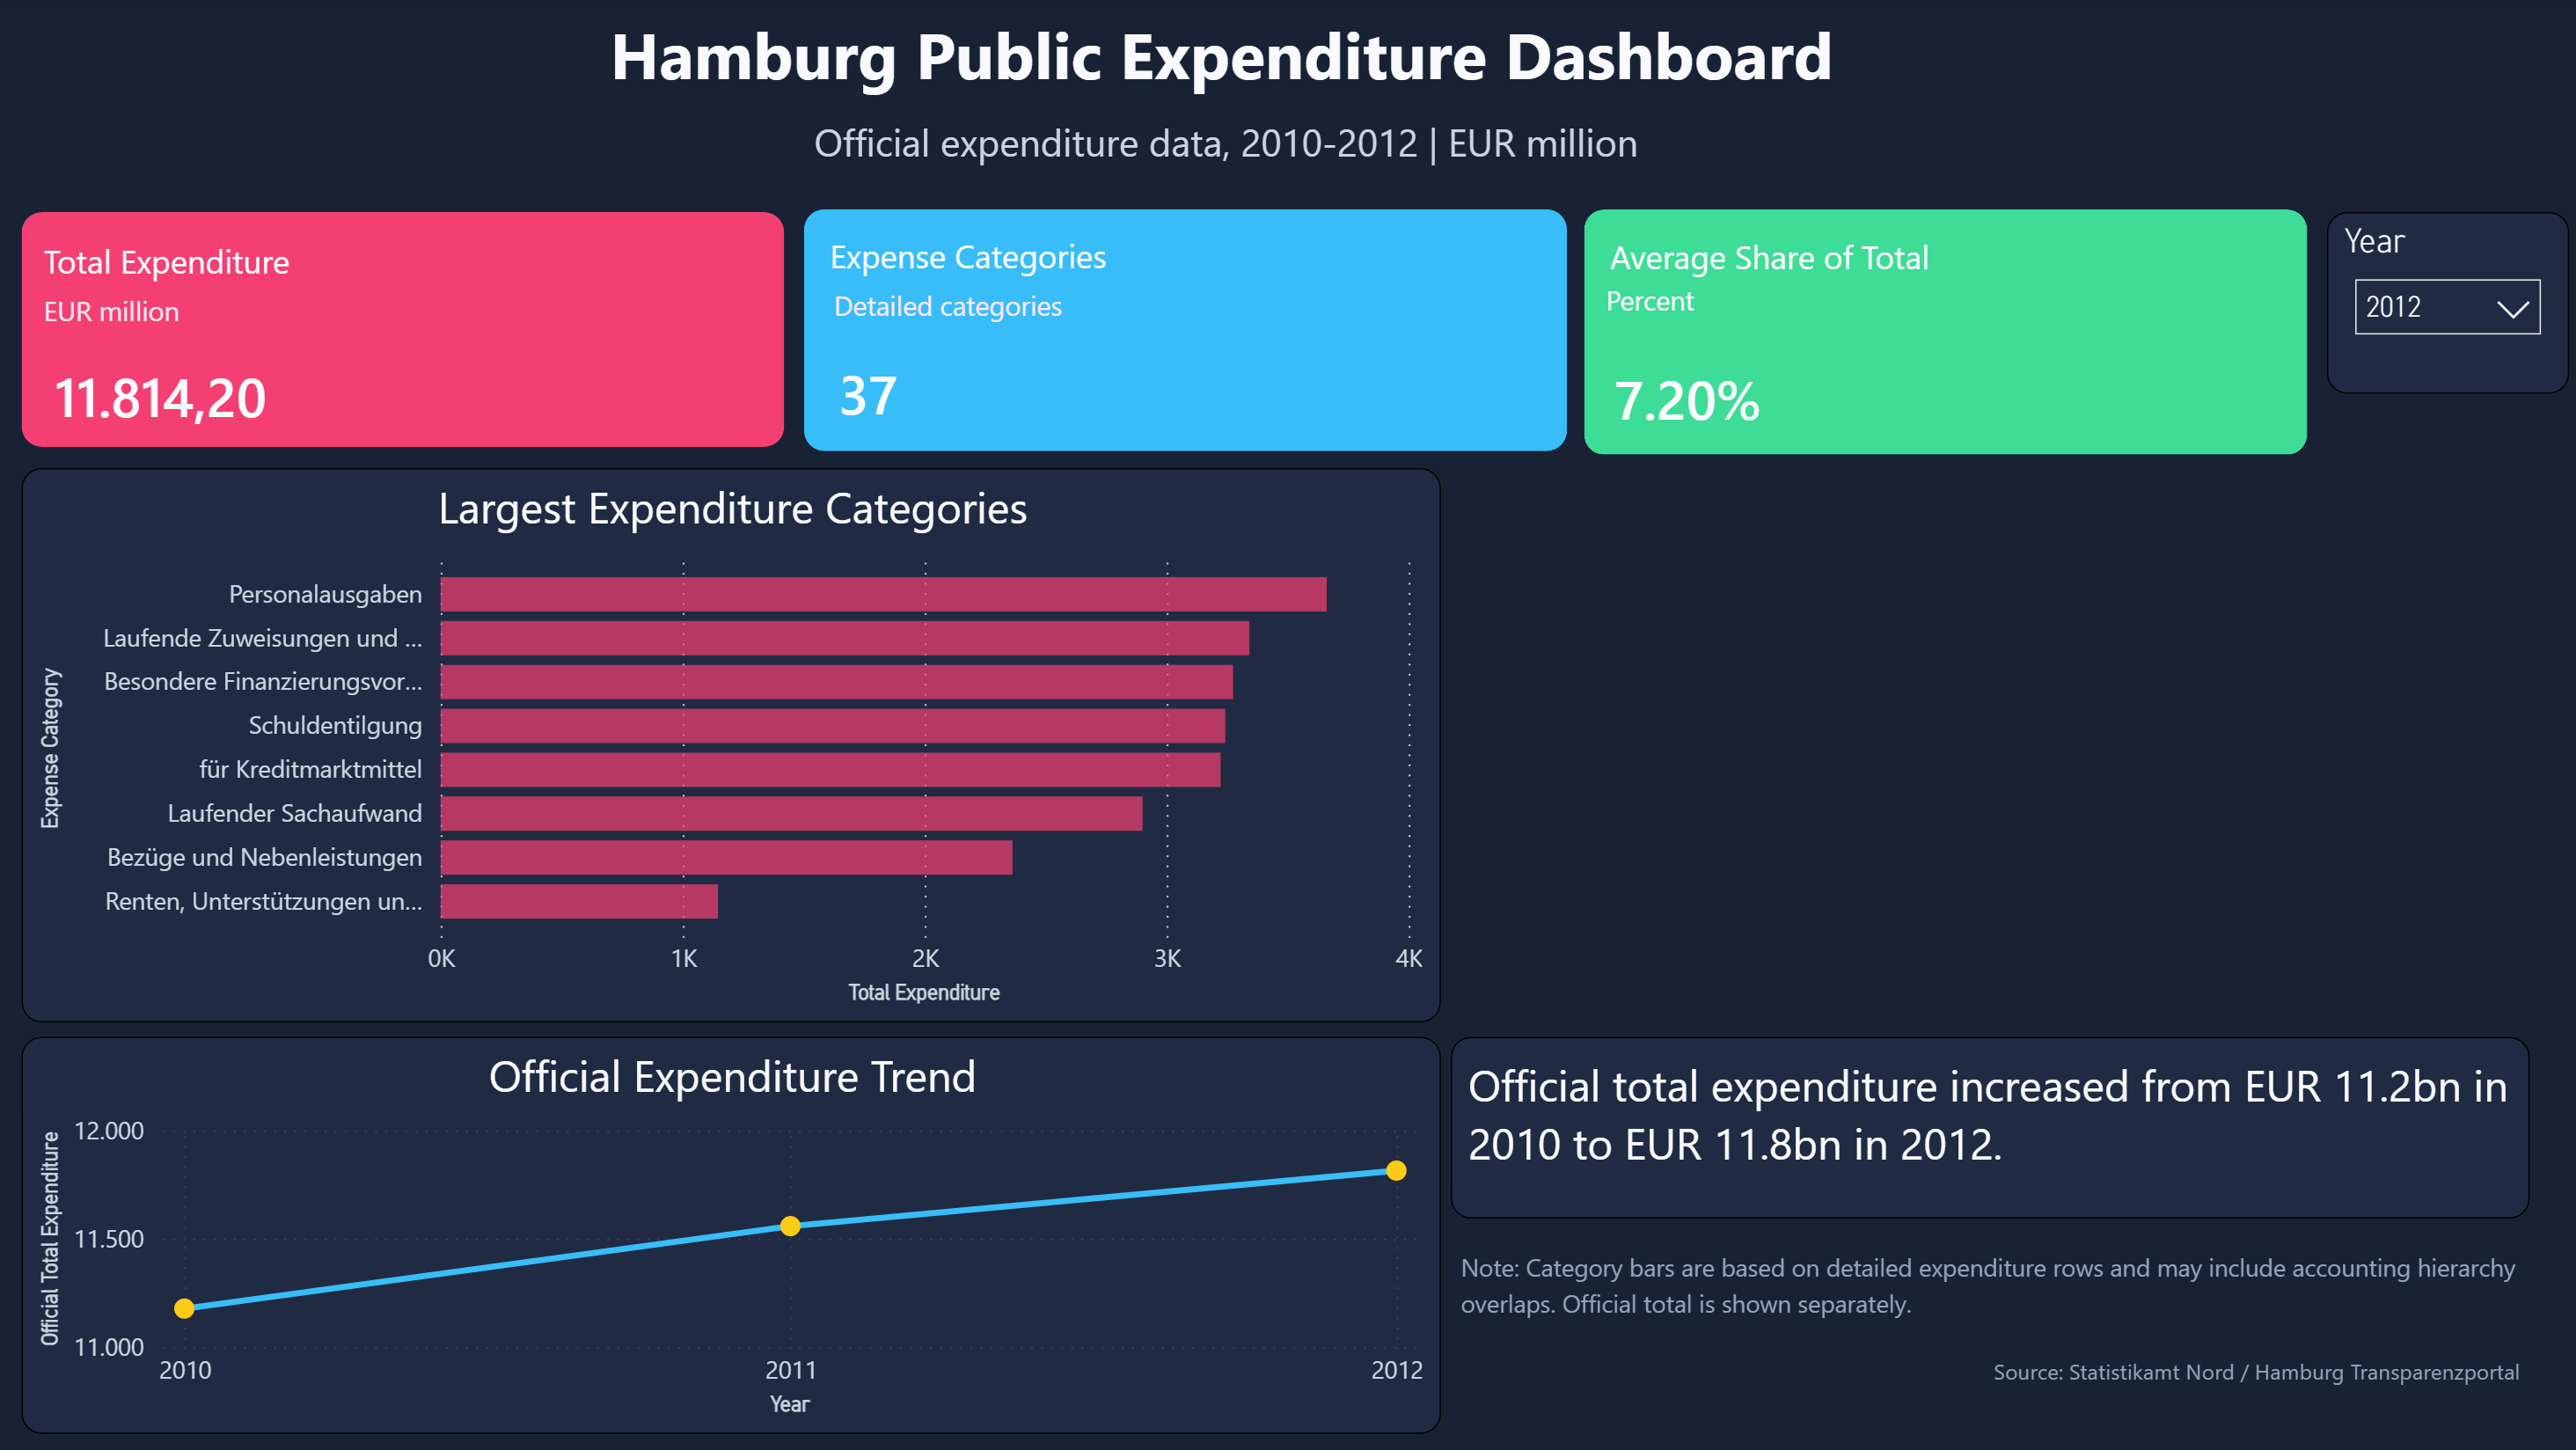

Layout of this report page (visuals, bound fields, positions):
{"tool":"powerbi","page":{"name":"Executive Overview","canvas":[1280,720],"ordinal":0},"visuals":[{"type":"shape","box":[12.4,105.9,378,116.4],"z":0,"group":"g2"},{"type":"slicer","title":"Year","fields":{"Values":["Dim_Year.Year"]},"box":[1154.9,105.9,119.7,90.2],"z":0},{"type":"shape","box":[400.2,104.6,378,119.7],"z":500,"group":"g1"},{"type":"clusteredBarChart","title":"Largest Expenditure Categories","fields":{"Category":["fact_expenses_detail.Expense Category"],"Y":["Measures (2).Total Actual EUR million"]},"box":[12.4,232.8,703.7,274.7],"z":1000},{"type":"lineChart","title":"Official Expenditure Trend","fields":{"Category":["Dim_Year.Year"],"Y":["Measures (2).Official Total Expenditure"]},"box":[12.4,514.7,703.7,196.8],"z":2000},{"type":"cardVisual","title":"Expense Categories","fields":{"Data":["Measures (2).Number of Expenses Categories"]},"box":[388.5,155.8,108.6,77.8],"z":3000,"group":"g1"},{"type":"textbox","box":[720.7,514.7,534.9,90.2],"z":3000},{"type":"textbox","box":[283.2,0,648.1,53],"z":4000},{"type":"textbox","box":[400.2,53,425.7,38.6],"z":5000},{"type":"cardVisual","title":"Total Expenditure","fields":{"Data":["Measures (2).Official Total Expenditure"]},"box":[0,158.2,192.3,74.6],"z":5000,"group":"g2"},{"type":"textbox","box":[720.7,613.4,534.9,55.6],"z":6000},{"type":"group","id":"g1","title":"Group 2","box":[388.5,104.6,389.7,129.1],"z":7000},{"type":"textbox","box":[975,664.4,280.5,55.6],"z":8000},{"type":"group","id":"g2","title":"Group 3","box":[0,105.9,390.4,126.9],"z":9000},{"type":"textbox","box":[18.3,114,133.4,31.4],"z":9000,"group":"g2"},{"type":"shape","box":[786.8,104.6,358.4,121.6],"z":9500,"group":"g3"},{"type":"group","id":"g3","title":"Group 1","box":[761.9,104.6,383.2,128.8],"z":10000},{"type":"textbox","box":[18.3,140.1,77.8,29.4],"z":10000,"group":"g2"},{"type":"textbox","box":[408,110.9,149.1,31.4],"z":11000,"group":"g1"},{"type":"textbox","box":[410,137.1,124.3,29.4],"z":13000,"group":"g1"},{"type":"textbox","box":[794.8,112,204,31.4],"z":14000,"group":"g3"},{"type":"textbox","box":[792.6,134.7,70,34.7],"z":15000,"group":"g3"},{"type":"cardVisual","title":"Average Share of Total","fields":{"Data":["Measures (2).Average Share Display"]},"box":[761.9,161.5,153,71.9],"z":16001,"group":"g3"}]}

Visuals, with their boxes in screenshot pixels (x1, y1, x2, y2), scaled from the page's 1280x720 canvas onto the 2576x1450 screenshot:
shape: box(25, 213, 786, 448)
"Year" slicer: box(2324, 213, 2565, 395)
shape: box(805, 210, 1566, 451)
"Largest Expenditure Categories" clusteredBarChart: box(25, 469, 1441, 1022)
"Official Expenditure Trend" lineChart: box(25, 1036, 1441, 1433)
"Expense Categories" cardVisual: box(782, 314, 1000, 471)
textbox: box(1451, 1036, 2527, 1219)
textbox: box(570, 0, 1874, 106)
textbox: box(805, 106, 1662, 185)
"Total Expenditure" cardVisual: box(0, 319, 387, 469)
textbox: box(1451, 1235, 2527, 1347)
"Group 2" group: box(782, 210, 1566, 471)
textbox: box(1962, 1338, 2527, 1449)
"Group 3" group: box(0, 213, 786, 469)
textbox: box(37, 230, 305, 293)
shape: box(1584, 210, 2305, 456)
"Group 1" group: box(1533, 210, 2304, 470)
textbox: box(37, 282, 194, 341)
textbox: box(821, 223, 1121, 287)
textbox: box(825, 276, 1075, 335)
textbox: box(1599, 225, 2010, 289)
textbox: box(1595, 271, 1736, 341)
"Average Share of Total" cardVisual: box(1533, 326, 1841, 470)
